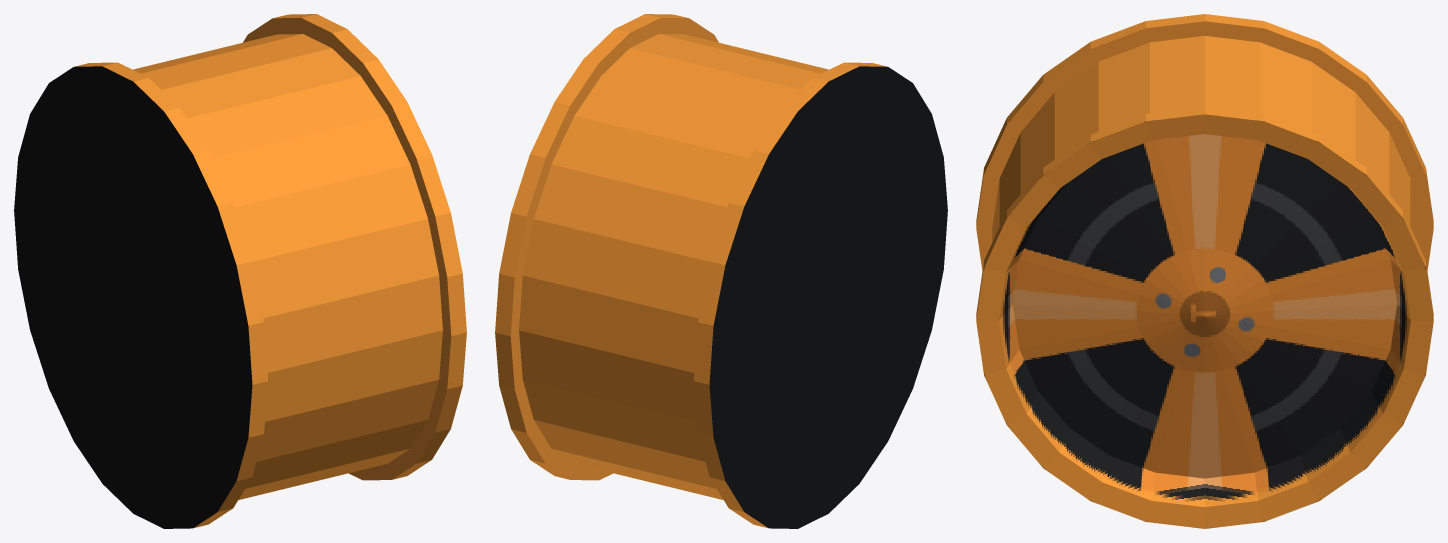
File: tiziu_cruzeta_13.glb
3 views of the same model, side by side, from view 1: azimuth 30°, elevation 25°; view 2: azimuth 150°, elevation 25°; view 3: azimuth 270°, elevation 25° (orthographic). The views are drawn at different scales.
Visible parts, largest first — view 1: tiziu_cruzeta_13; view 2: tiziu_cruzeta_13; view 3: tiziu_cruzeta_13.
Boxes of the visible parts, x1,y1,x2,y2 form: tiziu_cruzeta_13: (14,14,466,528); tiziu_cruzeta_13: (495,14,947,528); tiziu_cruzeta_13: (976,14,1433,528).
Bounding box in the file's own units: 0.192 × 0.3698 × 0.3698.
1 material, 1 textured.
